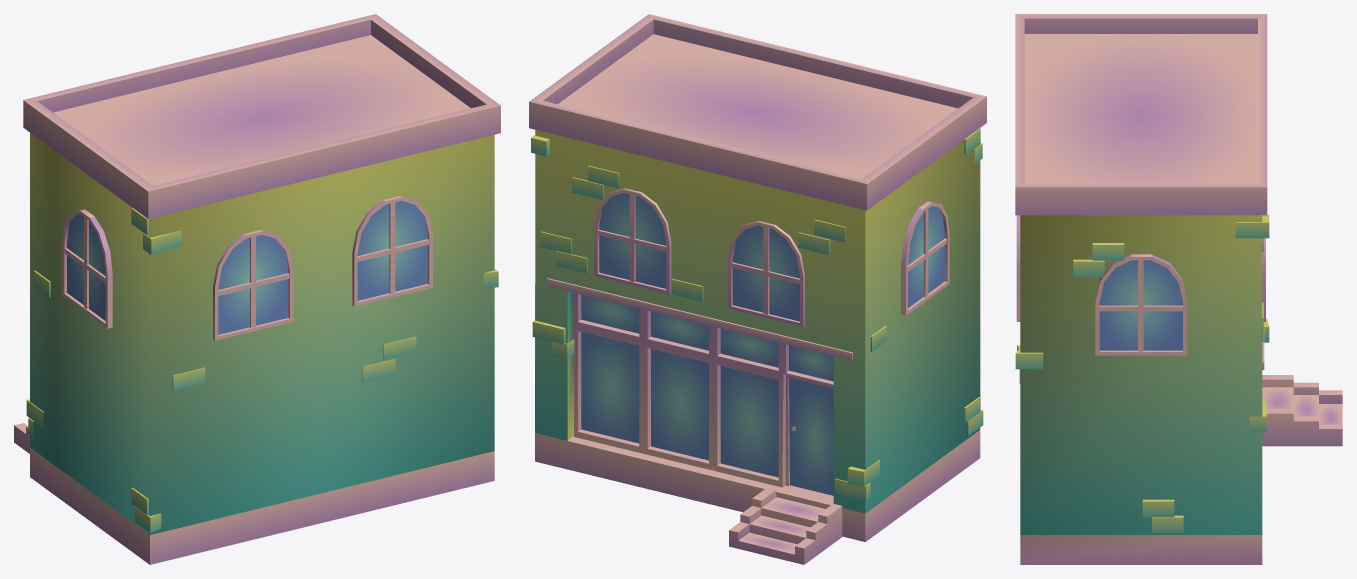
The model's file is SM_2F_Half_03.fbx.
3 renders of one model, left to right at view 1: azimuth 30°, elevation 25°; view 2: azimuth 150°, elevation 25°; view 3: azimuth 270°, elevation 25°, orthographic. The views are drawn at different scales.
Visible parts, largest first — view 1: SM_2F_Half_03; view 2: SM_2F_Half_03; view 3: SM_2F_Half_03.
Boxes of the visible parts, x1,y1,x2,y2 form: SM_2F_Half_03: (14,14,500,564); SM_2F_Half_03: (529,14,986,564); SM_2F_Half_03: (1015,14,1342,564).
Bounding box in the file's own units: 7.91 × 6.27 × 8.03.
